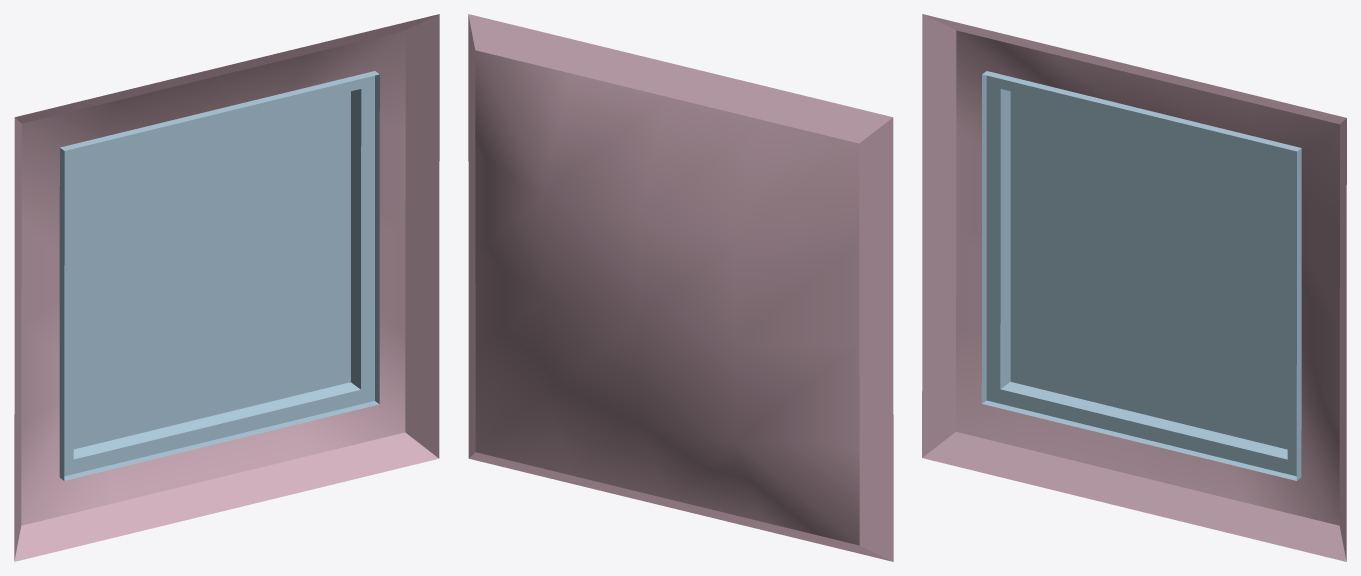
3 views of the same model, side by side, from view 1: azimuth 30°, elevation 25°; view 2: azimuth 150°, elevation 25°; view 3: azimuth 330°, elevation 25° (orthographic).
Parts seen in each view (by area): view 1: Object34; view 2: Object34; view 3: Object34.
Part boxes in pixels (x1,y1,x2,y2): Object34: [14, 14, 439, 561]; Object34: [468, 14, 893, 561]; Object34: [922, 14, 1346, 561].
Bounding box in the file's own units: 24243 × 24243 × 4175.
